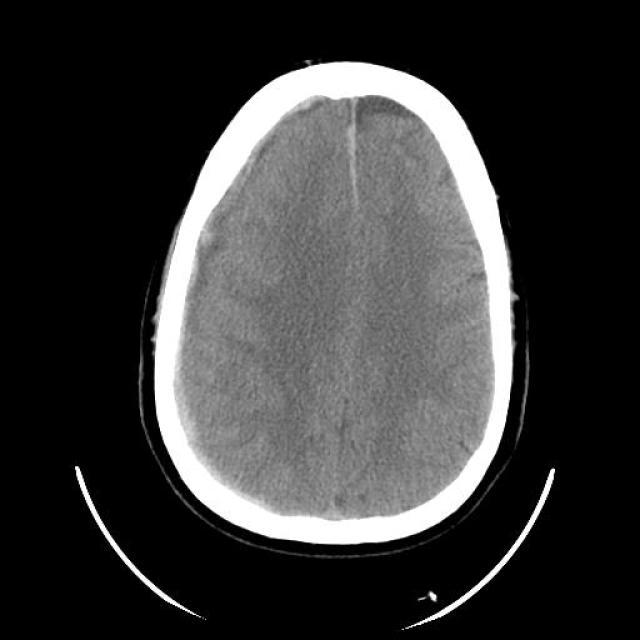Subdural: (160, 246, 279, 516), (188, 91, 330, 242), (332, 74, 387, 221)
